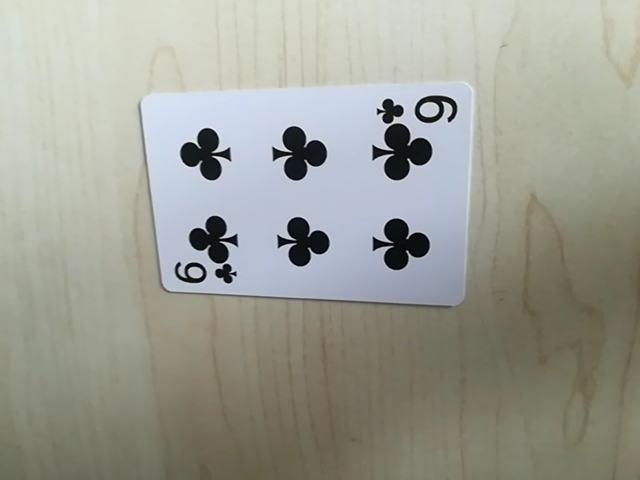mh 6: (376, 90, 461, 125), (167, 260, 237, 290)
